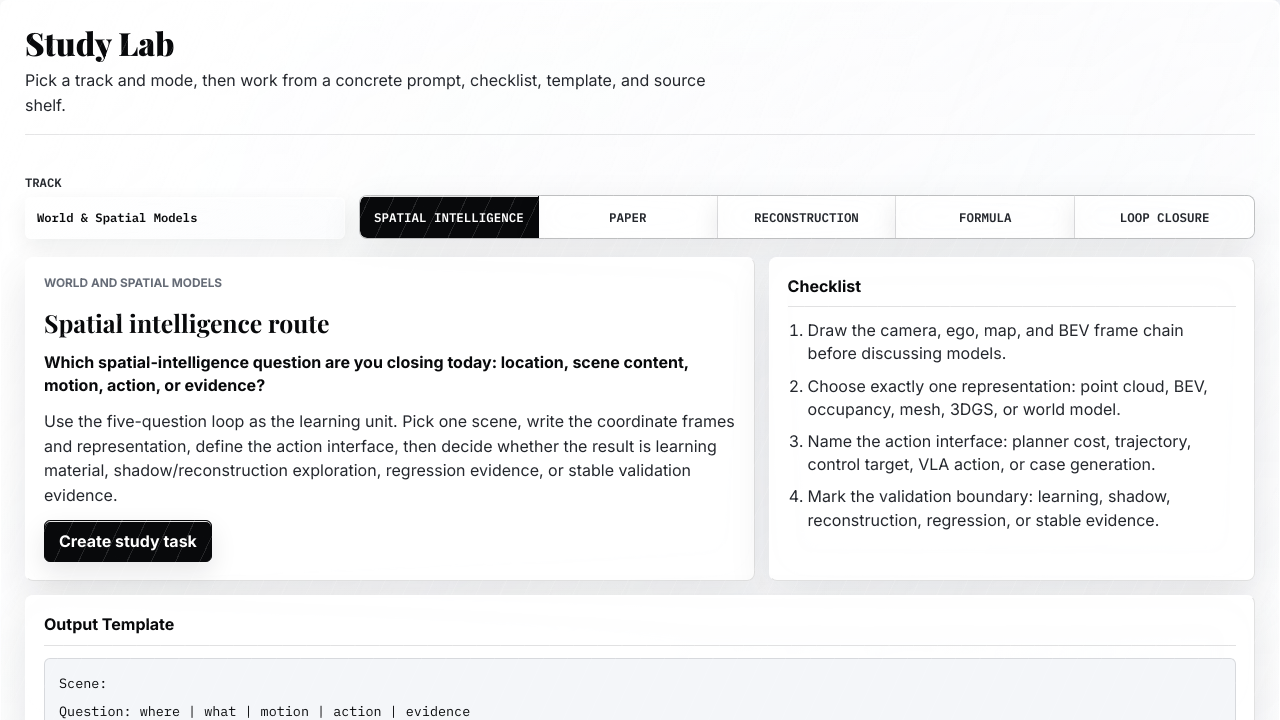
Test: StudyLab › supports a work validation closure mode instead of falling back to another track
Select "Work Validation" in the dropdown labelled "Track": (185, 218) [25, 197, 345, 239]
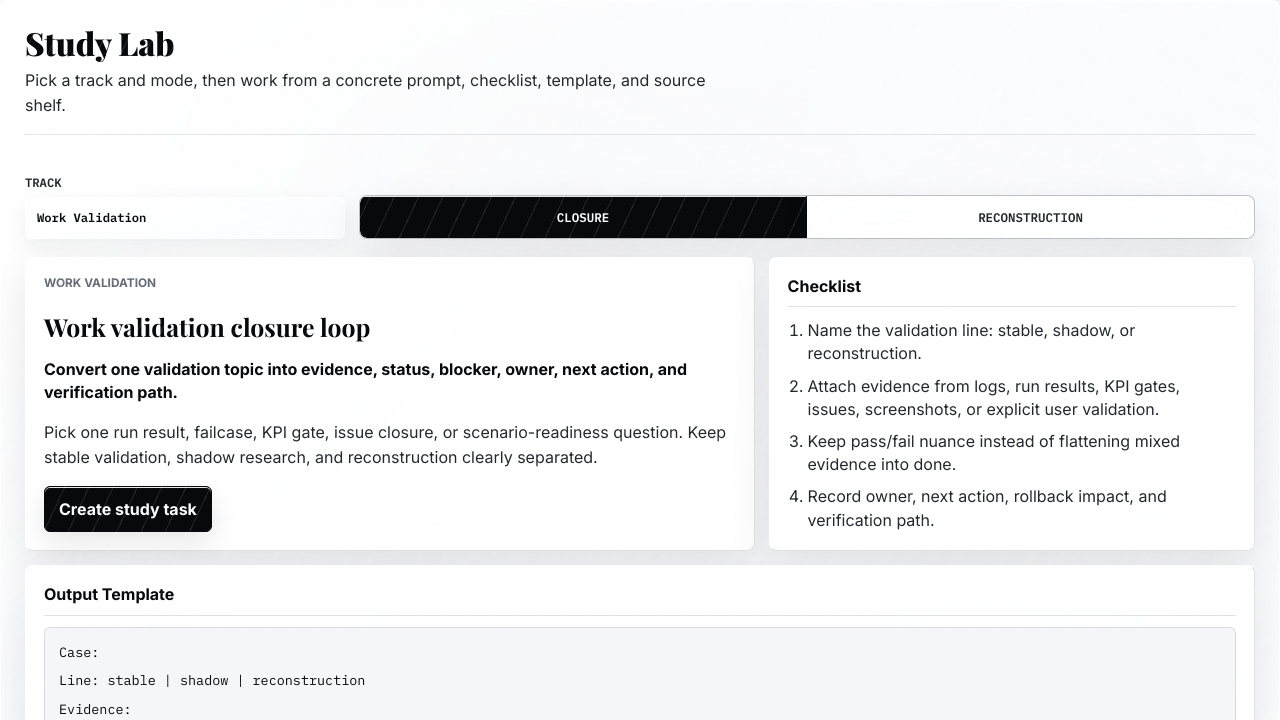
Expected: the button "Closure" is shown, [360, 196, 807, 238]
Expected: the heading "Work validation closure loop" is shown, [44, 310, 370, 343]
Expected: the text "evidence, status, blocker, owner, next action" is shown, [44, 359, 687, 402]
